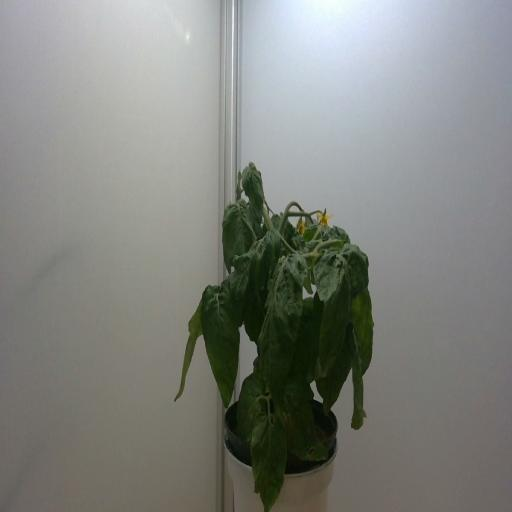Tomato-Leaves-Cupboard-: (258, 259, 302, 415), (272, 379, 330, 466), (202, 286, 241, 415), (172, 290, 208, 408), (343, 279, 376, 381), (317, 269, 346, 380), (252, 416, 285, 512), (343, 318, 370, 429), (292, 292, 320, 388), (236, 367, 266, 448), (318, 345, 350, 420), (222, 199, 259, 263), (244, 274, 268, 361), (240, 233, 270, 295), (312, 254, 346, 304), (242, 164, 266, 227), (345, 253, 369, 296), (287, 252, 306, 288), (331, 219, 351, 245)
